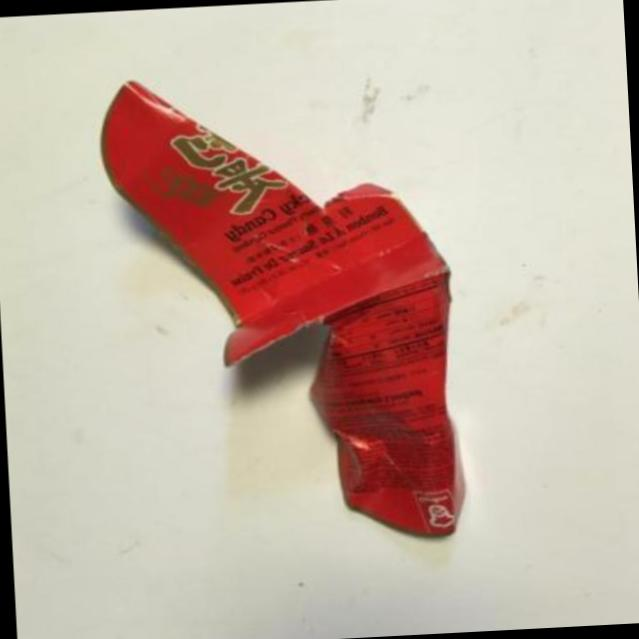cardboard paper: (100, 80, 456, 534)
